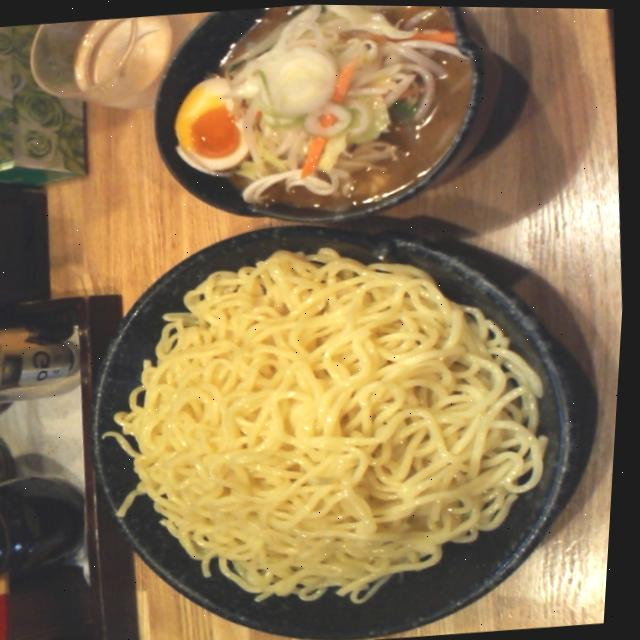面条主食: (67, 1, 606, 623)
